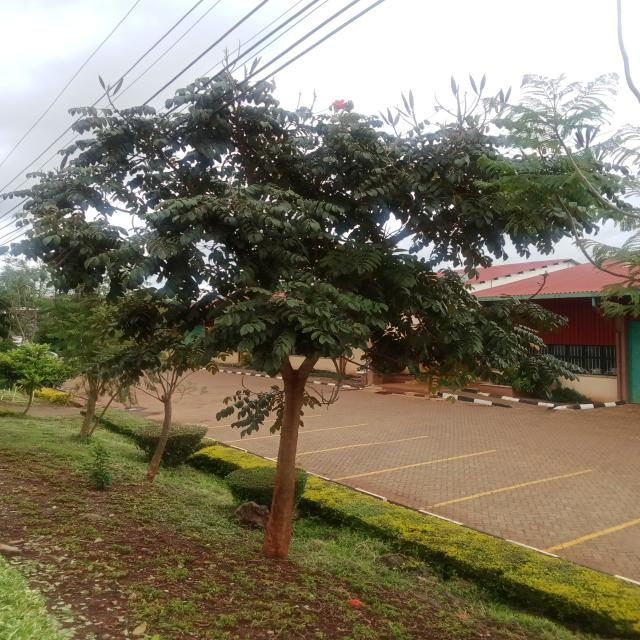Polyscias Kikuyensis: (10, 37, 640, 539)
